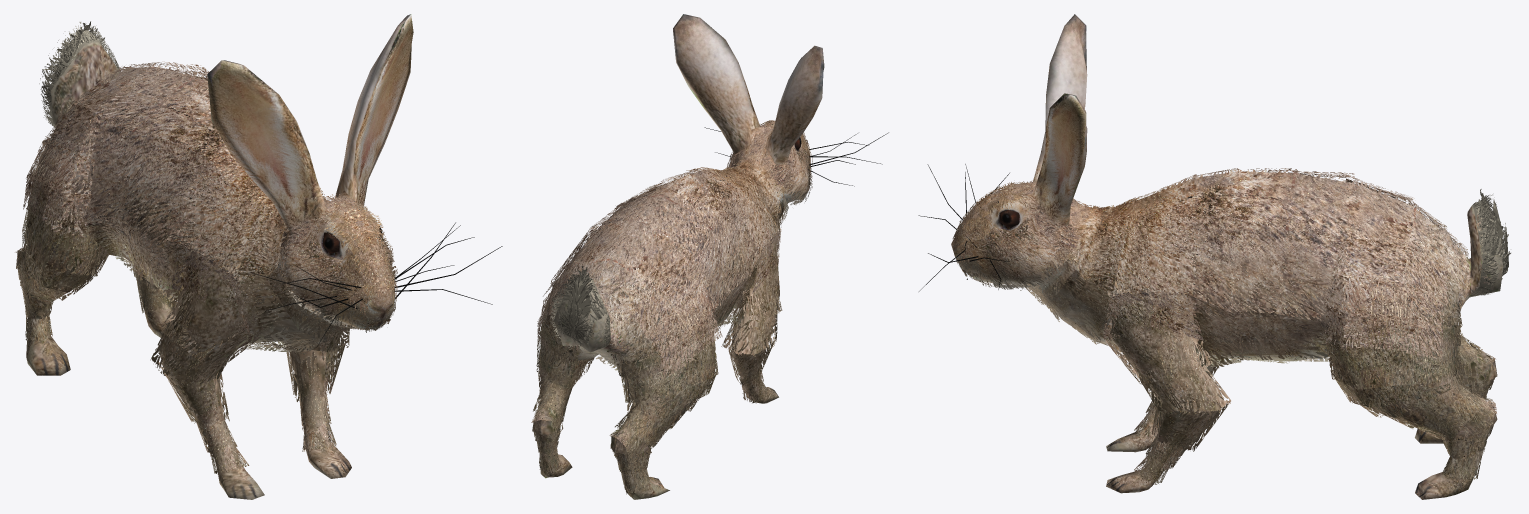
The model's file is rabbitt0002.obj.
The picture shows the model from 3 angles, left to right: view 1: azimuth 30°, elevation 25°; view 2: azimuth 150°, elevation 25°; view 3: azimuth 270°, elevation 25°; orthographic projection. The views are drawn at different scales.
Parts seen in each view (by area): view 1: Rabbit, Fur; view 2: Rabbit, Fur; view 3: Fur, Rabbit.
Boxes of the visible parts, x1,y1,x2,y2 form: Rabbit: (17, 14, 502, 499); Fur: (15, 21, 397, 474); Rabbit: (534, 14, 888, 499); Fur: (531, 120, 812, 494); Fur: (952, 168, 1510, 484); Rabbit: (918, 14, 1503, 499).
Bounding box in the file's own units: 7.47 × 14.78 × 19.33.
